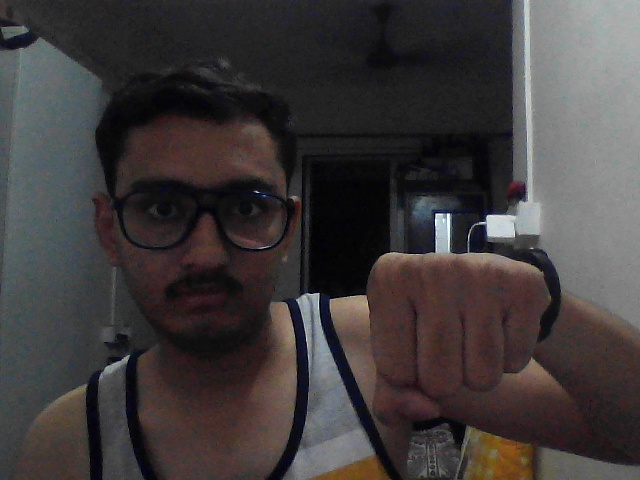Yes: (340, 213, 604, 448)
